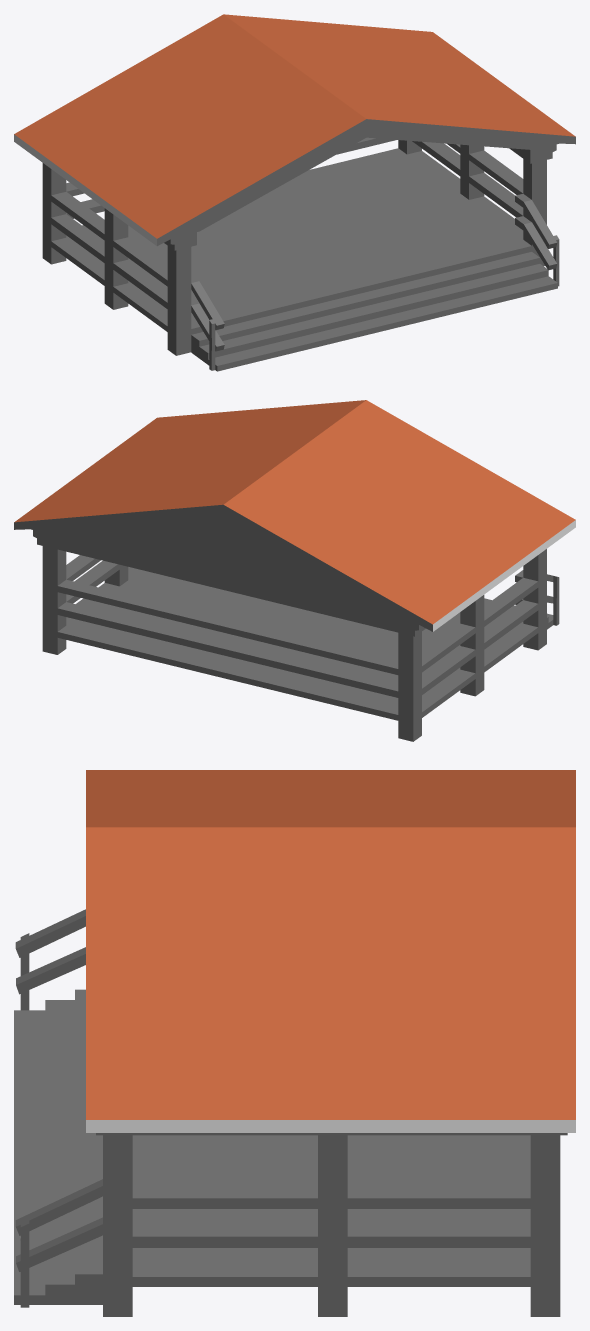
File: covered_stage.glb
3 views of the same model, one above another, from view 1: azimuth 30°, elevation 25°; view 2: azimuth 150°, elevation 25°; view 3: azimuth 270°, elevation 25° (orthographic). The views are drawn at different scales.
Visible parts, largest first — view 1: CoveredStage; view 2: CoveredStage; view 3: CoveredStage.
Boxes of the visible parts, bbox=[...] form: CoveredStage: bbox=[14, 14, 575, 371]; CoveredStage: bbox=[14, 400, 575, 741]; CoveredStage: bbox=[14, 770, 575, 1316].
Size of the model in its own units: 9.32 by 4.16 by 6.32.
1 material, 1 textured.
